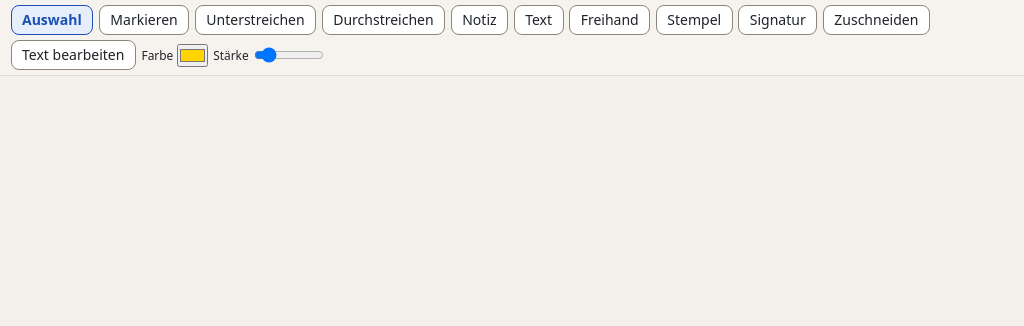
Scenario: Werkzeugleiste › oeffnet das Signaturfeld, wenn noch kein Bild da ist
The image size is (1024, 326).
Click the button with test id "werkzeug-signatur": coordinates (778, 20) [738,5,817,35]
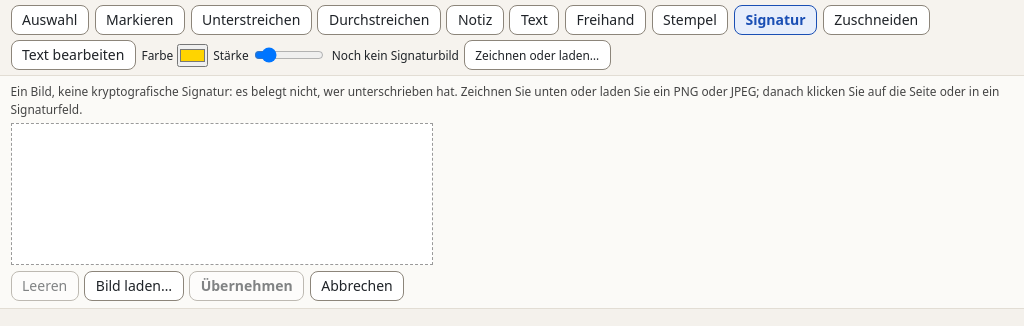
Check: the element with test id "signaturfeld" is shown
Check: the text with test id "signatur-hinweis" shows "keine kryptografische", box [10,83,458,99]
Check: the element with test id "werkzeug-signatur-stand" shows "Noch kein", box [332,47,459,63]
Click the button with test id "signatur-abbrechen": coordinates (357, 286) [310,271,404,301]
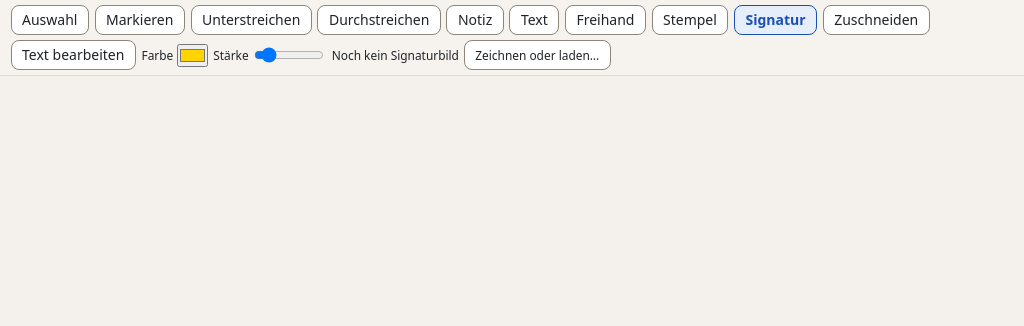
Check: the element with test id "signaturfeld" is gone
